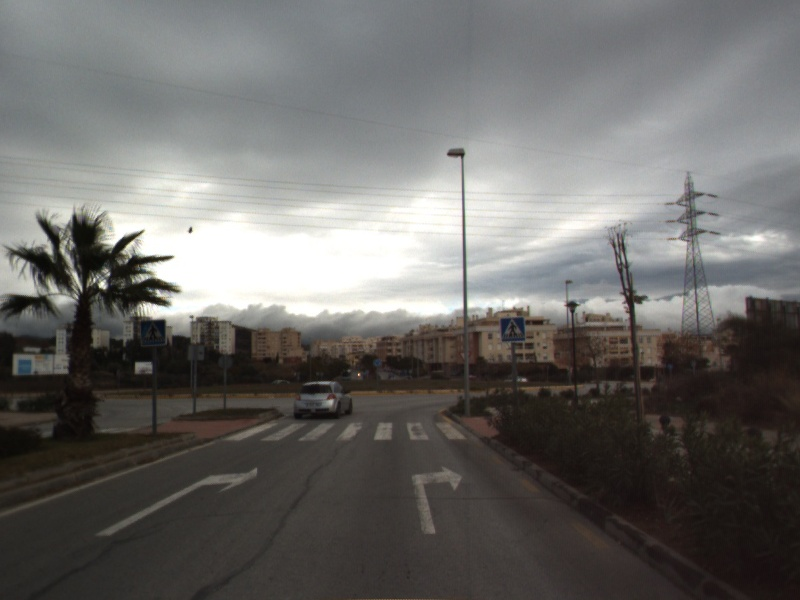RIGHT: (93, 465, 260, 538), (410, 464, 466, 536)
